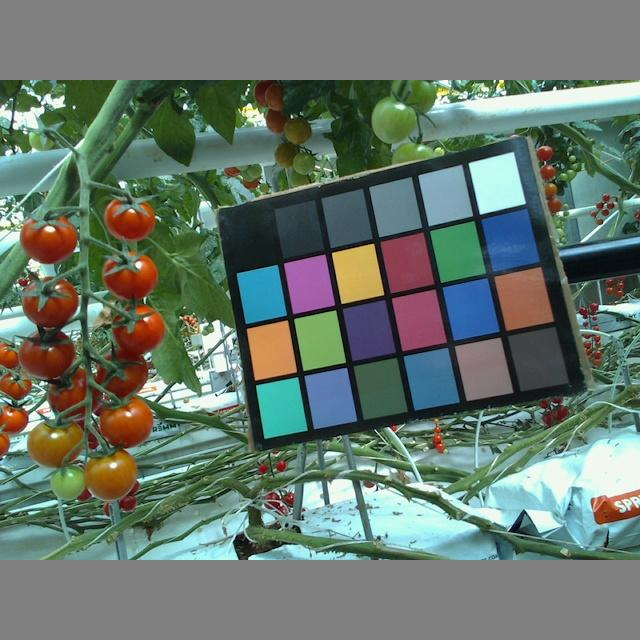green: (372, 96, 416, 146), (49, 464, 87, 503)
pink: (81, 447, 137, 499), (26, 421, 87, 466), (97, 402, 156, 447), (1, 402, 30, 437), (1, 370, 34, 400), (1, 341, 25, 371)
red: (21, 279, 80, 327), (21, 216, 77, 266), (19, 332, 75, 381), (45, 368, 101, 417), (94, 352, 151, 399), (100, 255, 159, 300), (112, 306, 166, 354), (106, 196, 156, 240)
